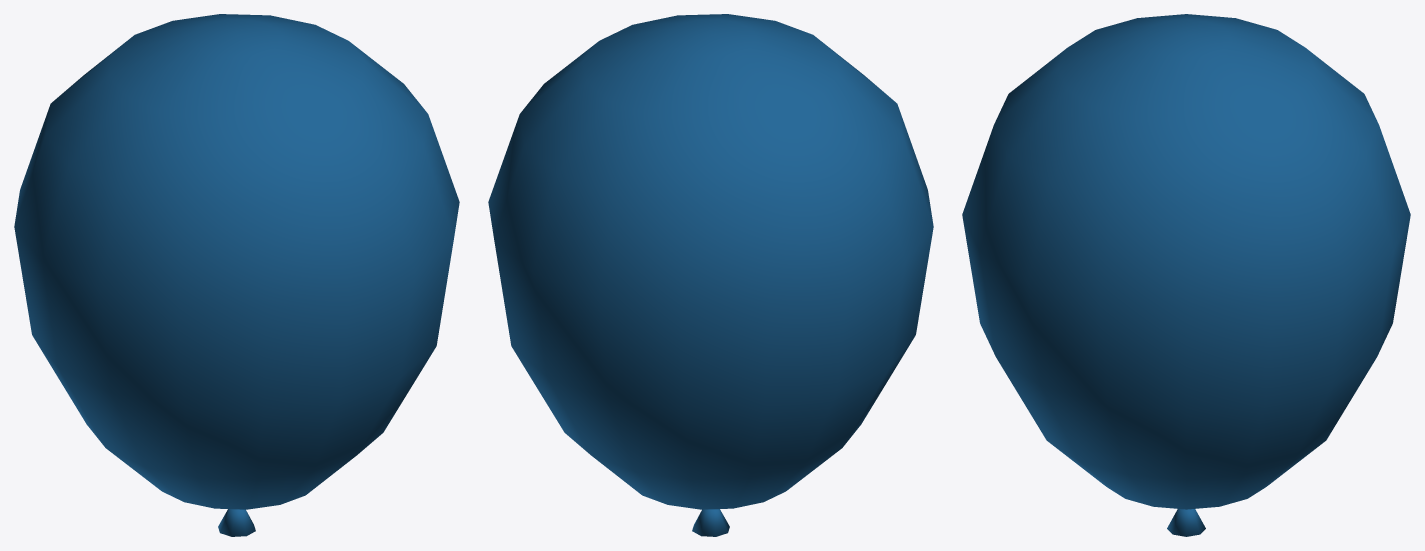
Rendered from Balloon.obj.
The picture shows the model from 3 angles, left to right: view 1: azimuth 30°, elevation 25°; view 2: azimuth 150°, elevation 25°; view 3: azimuth 270°, elevation 25°; orthographic projection.
Visible parts, largest first — view 1: Sphere_Material, Sphere_Material.002; view 2: Sphere_Material, Sphere_Material.002; view 3: Sphere_Material, Sphere_Material.002.
Boxes of the visible parts, <box> form: Sphere_Material: <box>14,14,459,509</box>; Sphere_Material.002: <box>218,509,255,536</box>; Sphere_Material: <box>488,14,933,509</box>; Sphere_Material.002: <box>692,509,729,536</box>; Sphere_Material: <box>962,14,1410,509</box>; Sphere_Material.002: <box>1167,509,1205,536</box>.
Bounding box in the file's own units: 1.6 × 1.95 × 1.6.
Materials: 2 (2 with a texture image).
